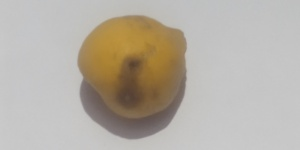BAD: (78, 14, 189, 119)
